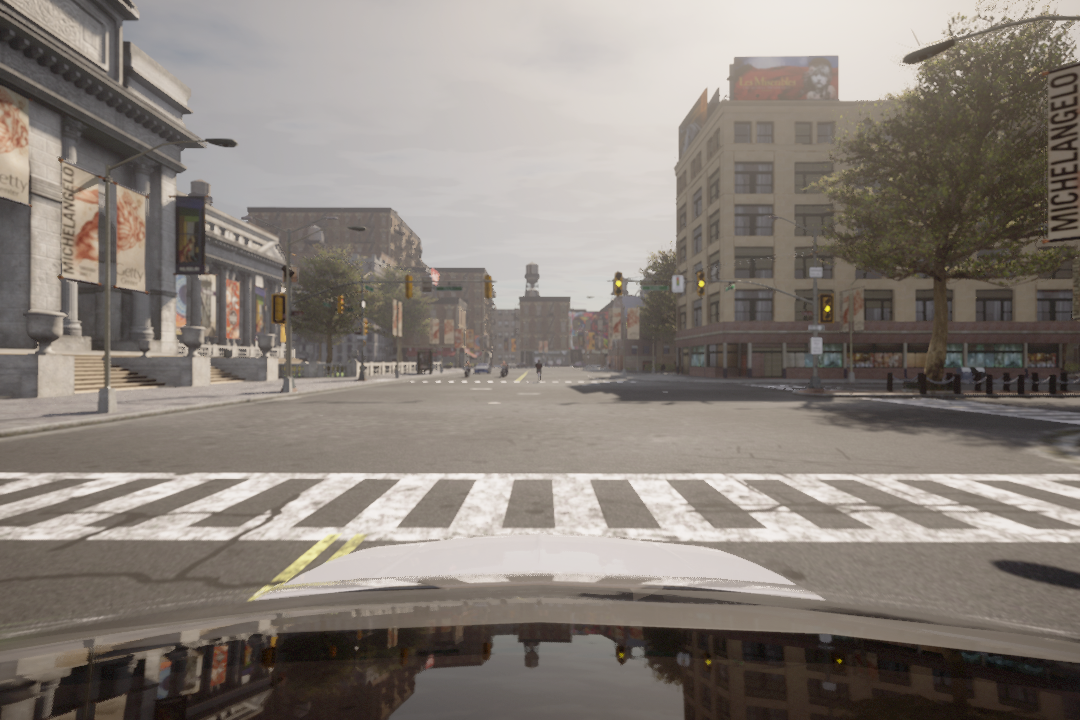TrafficLight: (609, 271, 627, 298), (821, 295, 835, 322), (696, 271, 707, 296)
walkside: (2, 472, 1080, 551)
